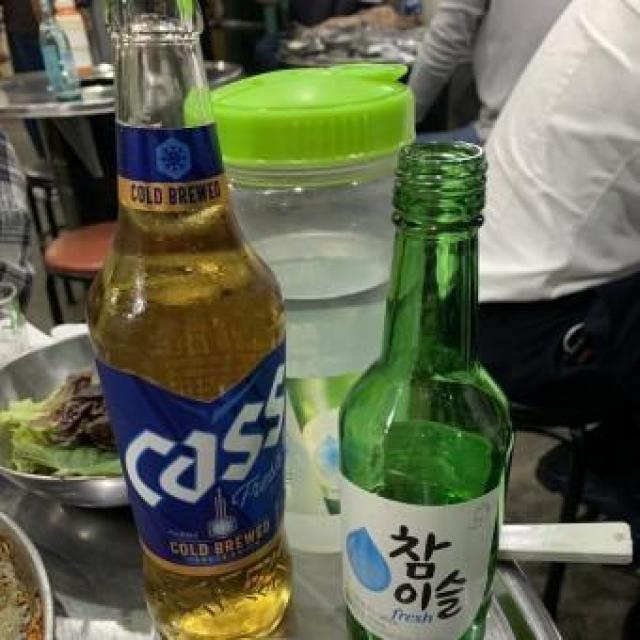beer-bottle: (85, 0, 302, 640)
soju-bottle: (342, 130, 514, 640)
